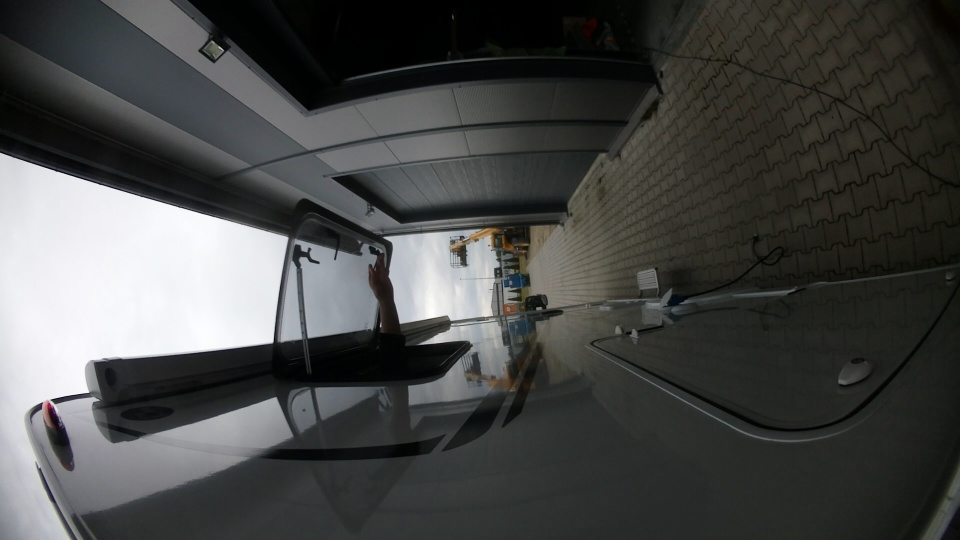step_back: (632, 260, 666, 302)
window_back: (269, 193, 446, 386)
